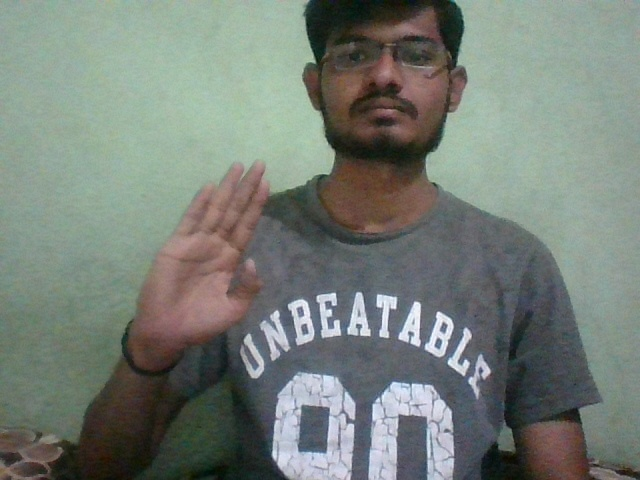Hello: (125, 138, 278, 380)
